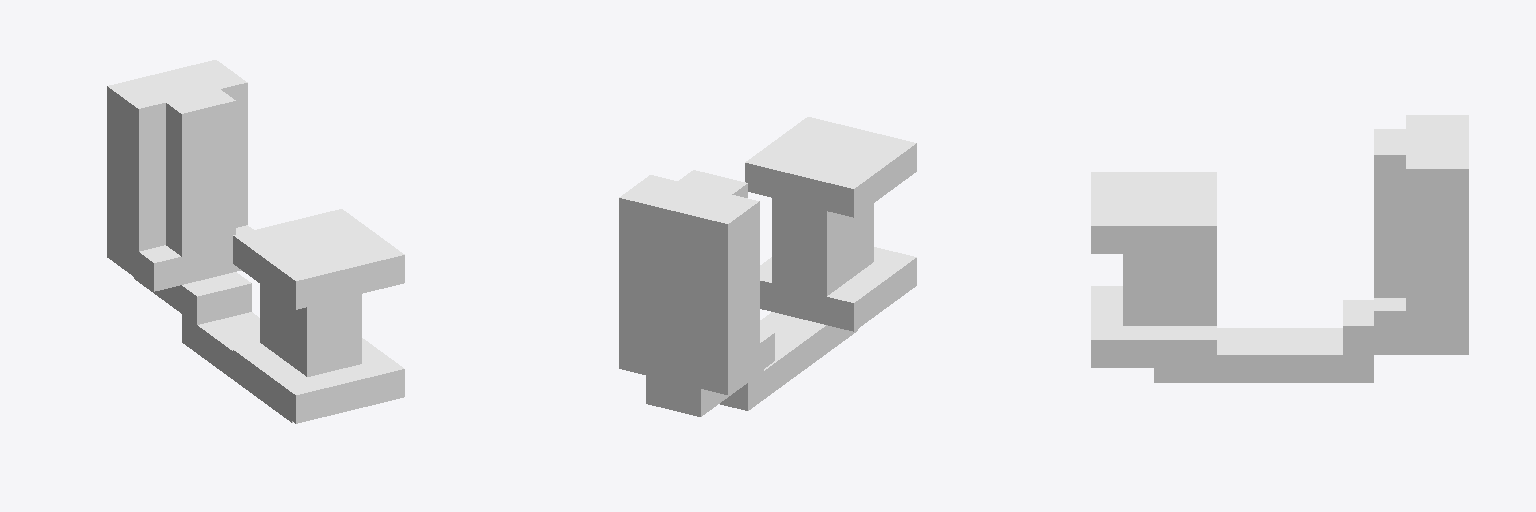
File: sconce.obj
The picture shows the model from 3 angles: view 1: azimuth 30°, elevation 25°; view 2: azimuth 150°, elevation 25°; view 3: azimuth 270°, elevation 25°; orthographic projection.
Parts seen in each view (by area): view 1: object 1; view 2: object 1; view 3: object 1.
Boxes of the visible parts, x1=… form: object 1: x1=107, y1=60, x2=404, y2=423; object 1: x1=619, y1=117, x2=916, y2=416; object 1: x1=1091, y1=115, x2=1468, y2=382.
Size of the model in its own units: 0.4 by 0.8 by 1.2.